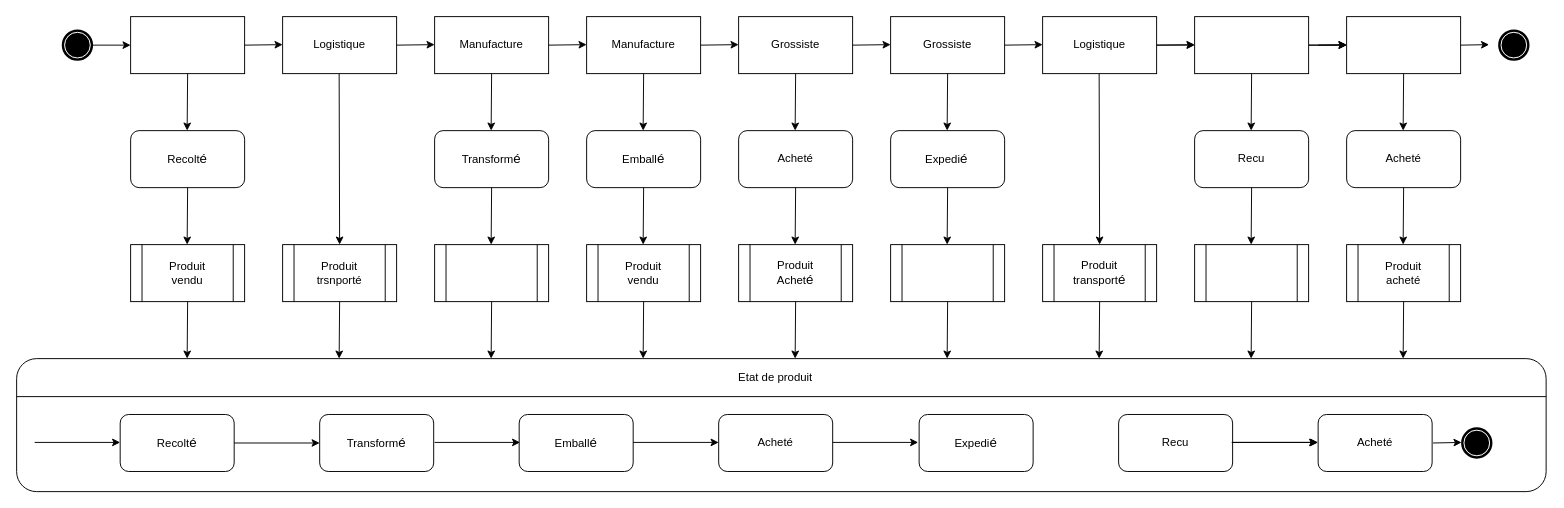
The diagram is 1564 pixels wide and 508 high, and some of its shapes have lost their labels. Each missing label, with the centre of its shape:
Agriculteur: point (187, 45)
Consommateur: point (1403, 45)
Detaillant: point (1251, 45)
Produit emballé: point (491, 273)
Produit expedi é: point (947, 273)
Produit recu: point (1251, 273)
